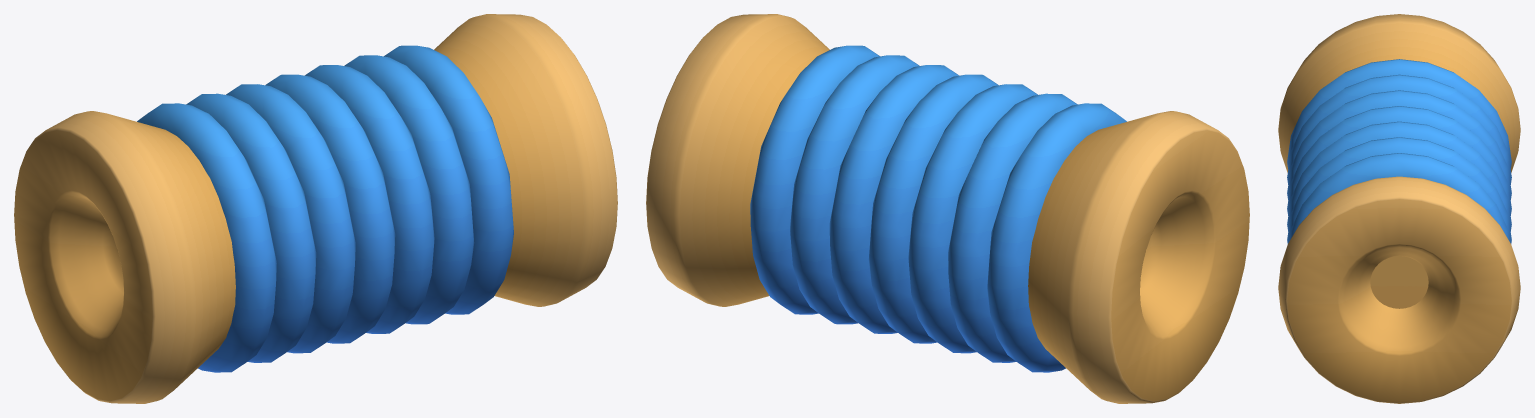
File: coil.fbx
3 renders of one model, left to right at view 1: azimuth 30°, elevation 25°; view 2: azimuth 150°, elevation 25°; view 3: azimuth 270°, elevation 25°, orthographic. The views are drawn at different scales.
Visible parts, largest first — view 1: Cylinder; view 2: Cylinder; view 3: Cylinder.
Boxes of the visible parts, x1,y1,x2,y2 form: Cylinder: [14, 14, 617, 403]; Cylinder: [646, 14, 1249, 403]; Cylinder: [1278, 14, 1520, 403].
Bounding box in the file's own units: 4.95 × 2.76 × 2.76.
1 material, 1 textured.
